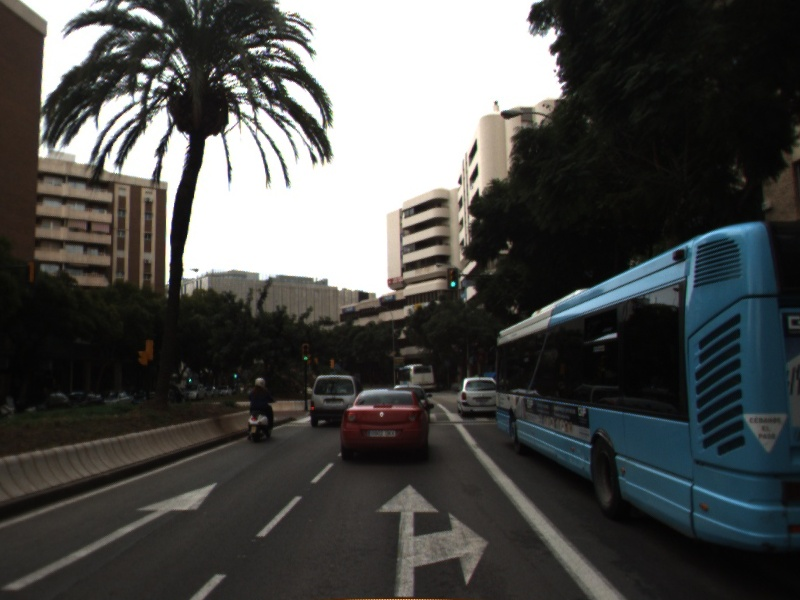STRAIGHT: (1, 478, 221, 594)
STRAIGHT_RIGHT: (371, 480, 493, 600)
